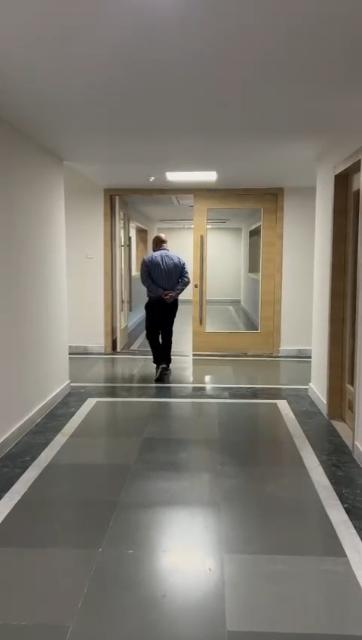door: (190, 188, 276, 362), (327, 177, 362, 425)
floor: (1, 355, 362, 640)
moving-obj: (114, 220, 214, 394)
wall: (0, 117, 96, 446), (292, 189, 328, 359)
